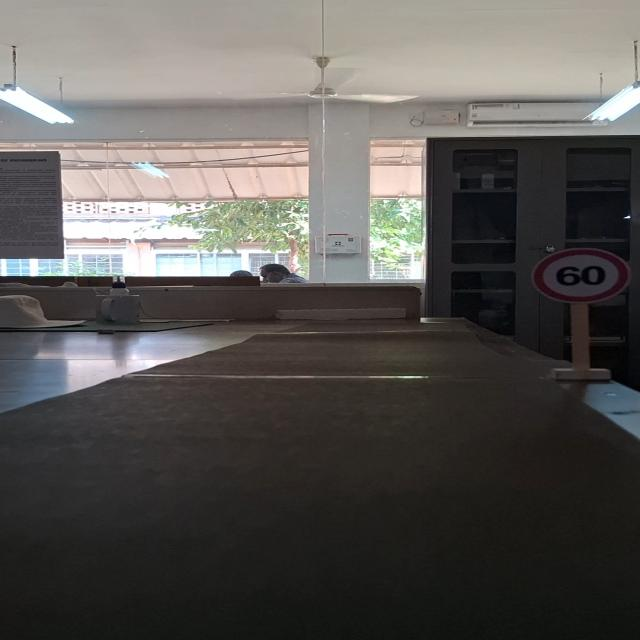Speed60: (528, 245, 636, 306)
